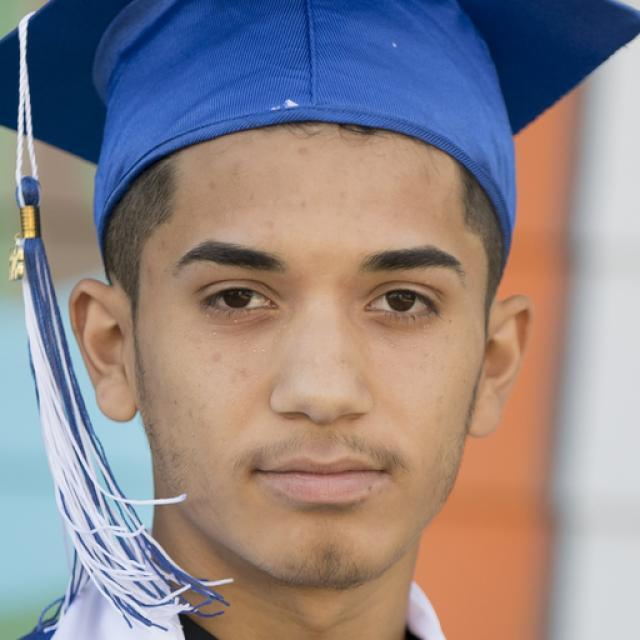neutral: (136, 116, 486, 586)
